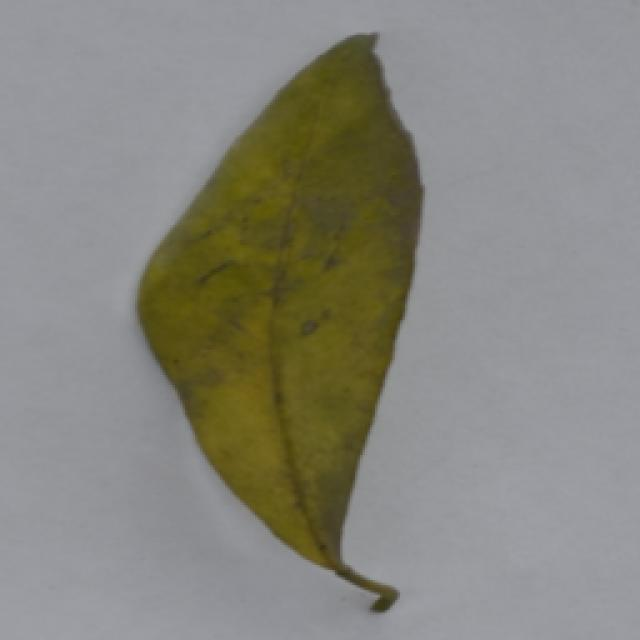blackspot: (116, 22, 462, 631)
